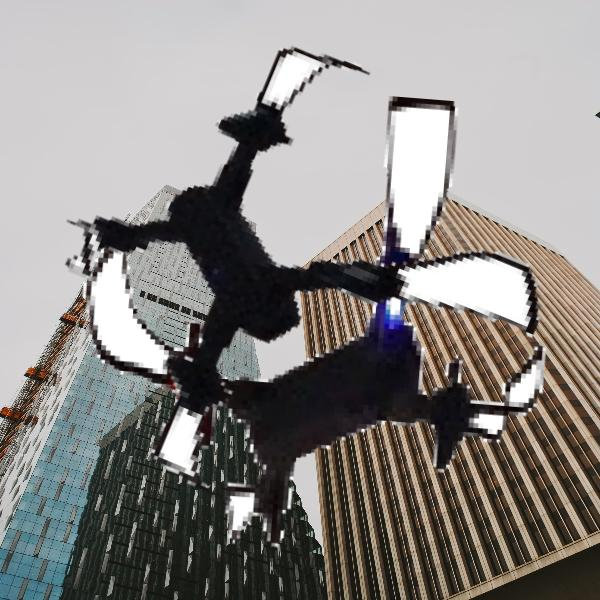drone: (51, 32, 554, 535), (75, 92, 559, 576)
